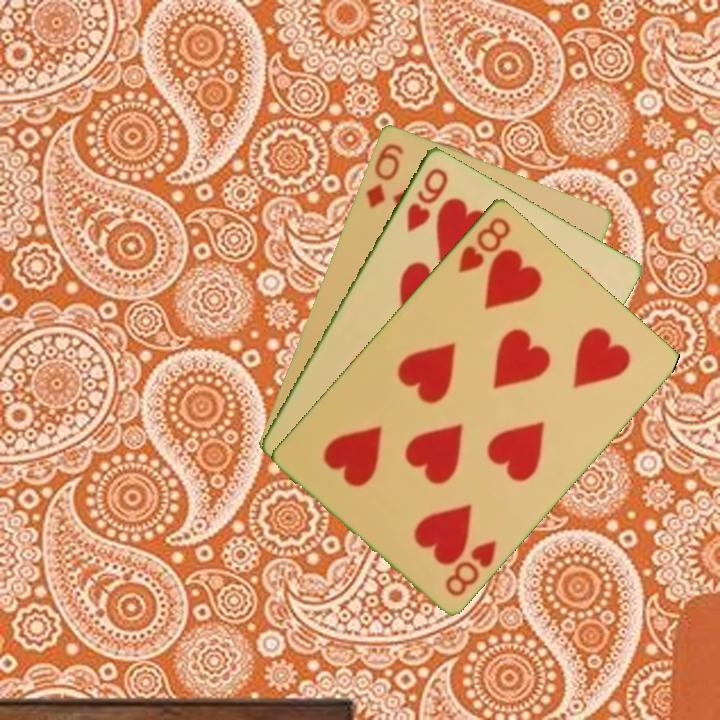6d: (362, 139, 407, 211)
8h: (454, 212, 514, 275), (441, 536, 500, 599)
9h: (403, 163, 451, 235)
